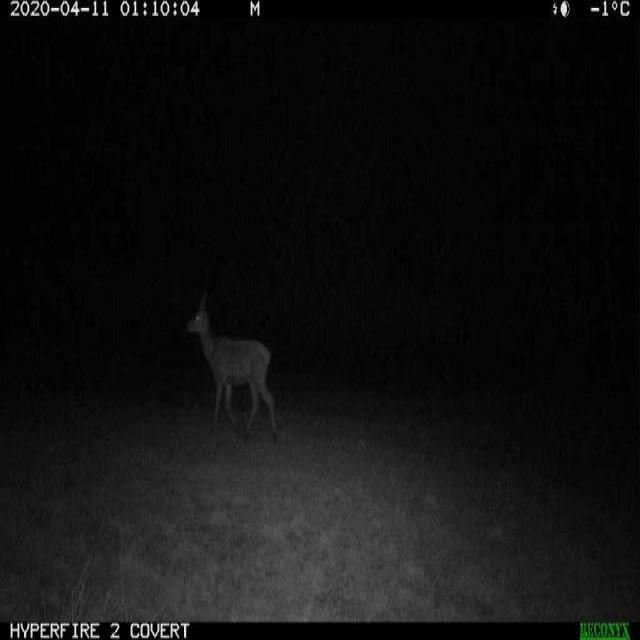deer: (178, 279, 281, 449)
